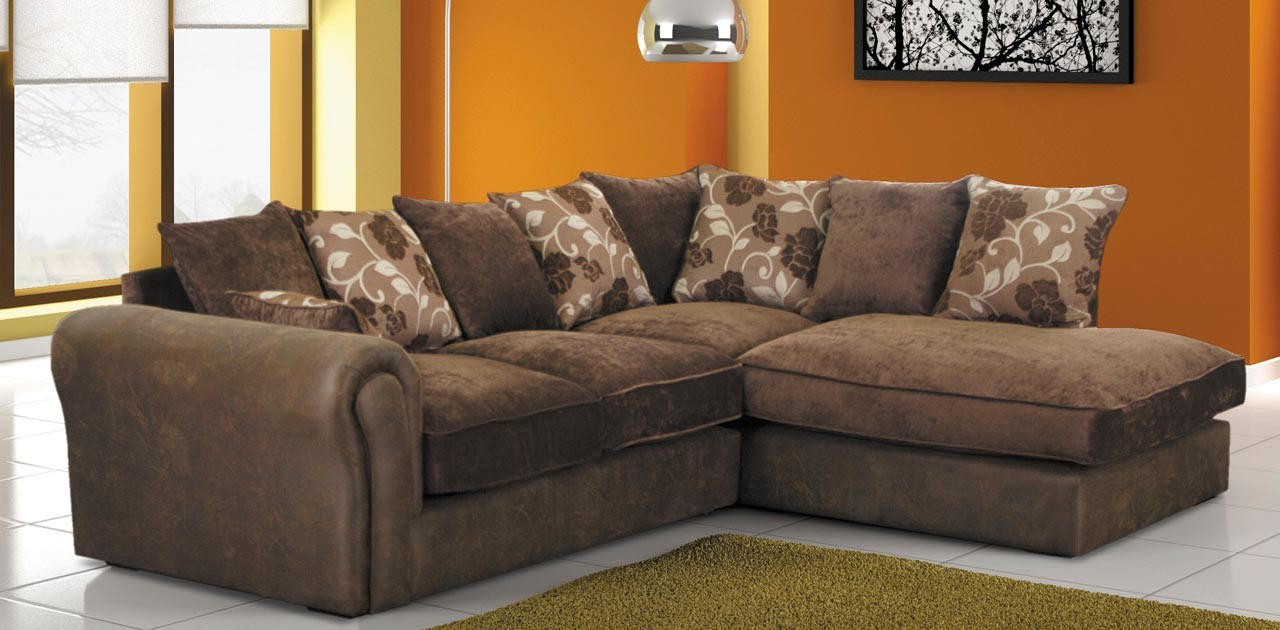chairs: (54, 169, 1253, 618)
